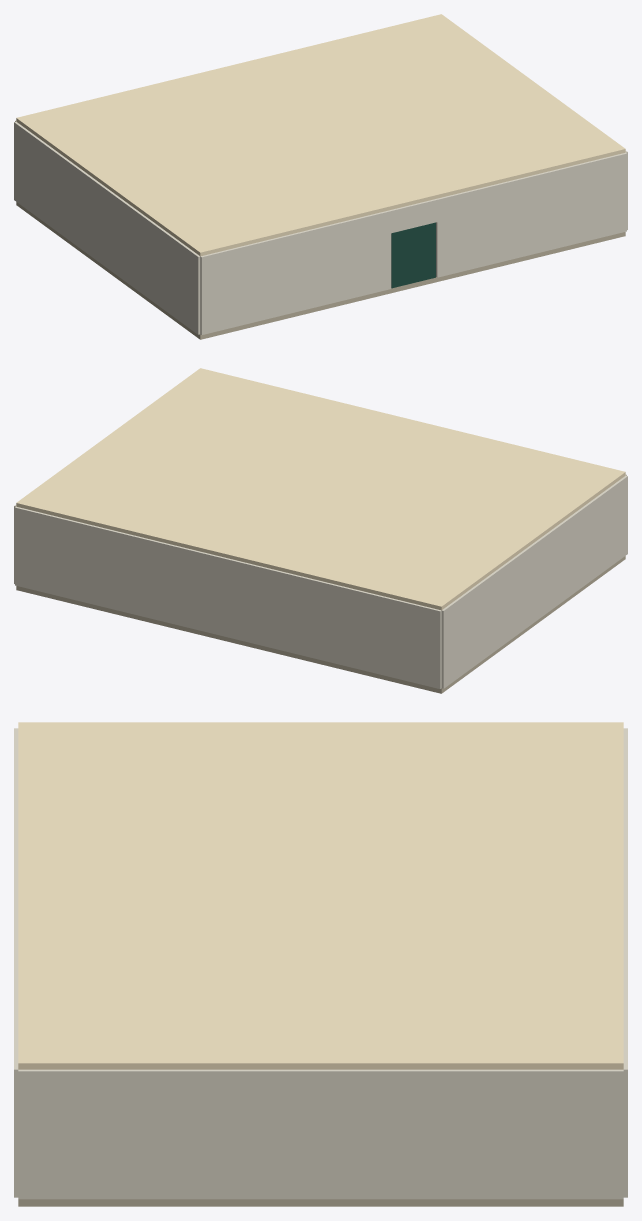
File: classroom-v1.glb
3 renders of one model, top to bottom at view 1: azimuth 30°, elevation 25°; view 2: azimuth 150°, elevation 25°; view 3: azimuth 270°, elevation 25°, orthographic. The views are drawn at different scales.
Parts seen in each view (by area): view 1: Classroom ceiling, Classroom plaster, Classroom floor, Return to campus door; view 2: Classroom ceiling, Classroom plaster, Classroom floor; view 3: Classroom ceiling, Classroom plaster, Classroom floor.
Part boxes in pixels (left/top/right/bottom): Classroom ceiling: left=16, top=14, right=625, bottom=256; Classroom plaster: left=14, top=120, right=627, bottom=334; Classroom floor: left=16, top=202, right=625, bottom=339; Return to campus door: left=391, top=222, right=435, bottom=288; Classroom ceiling: left=16, top=368, right=625, bottom=610; Classroom plaster: left=14, top=474, right=627, bottom=688; Classroom floor: left=16, top=556, right=625, bottom=693; Classroom ceiling: left=18, top=722, right=623, bottom=1069; Classroom plaster: left=14, top=728, right=627, bottom=1199; Classroom floor: left=18, top=1199, right=623, bottom=1206.
Size of the model in its own units: 24.25 by 4.7 by 18.25.
